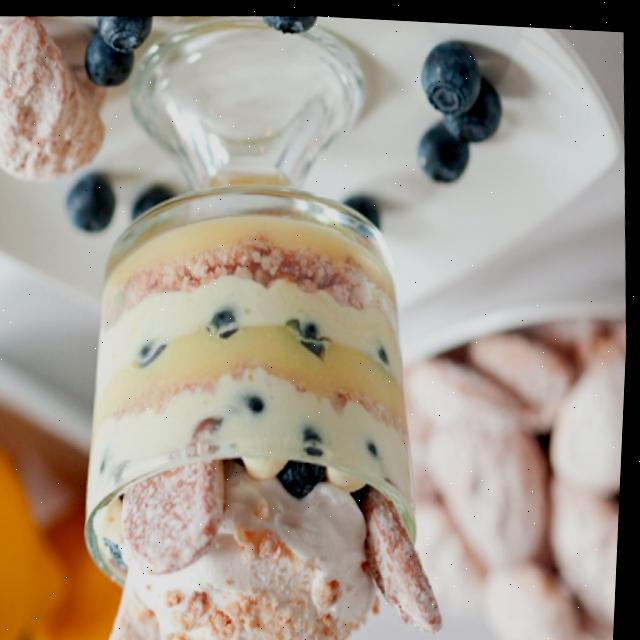蛋糕甜品: (35, 128, 491, 640)
